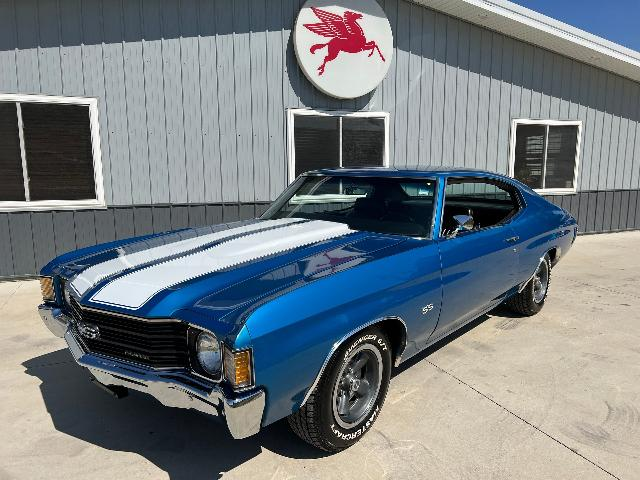chevelle-1972: (38, 166, 577, 452)
